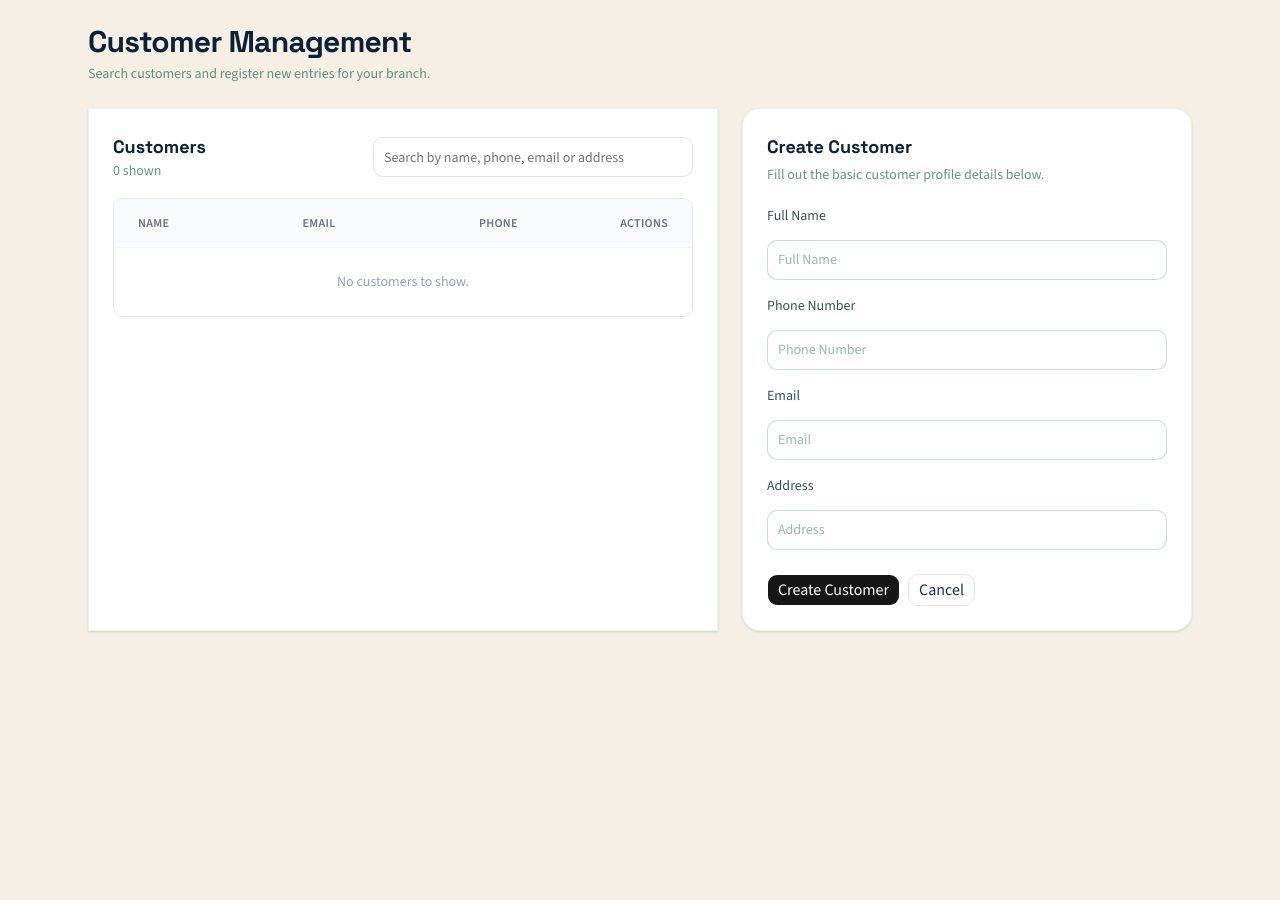
Test: CreateCustomerForm › maps backend field validation errors to form fields
Type "John Doe" into the field labelled "Full Name".
click(967, 260); type("John Doe")  # box [767, 240, 1167, 280]
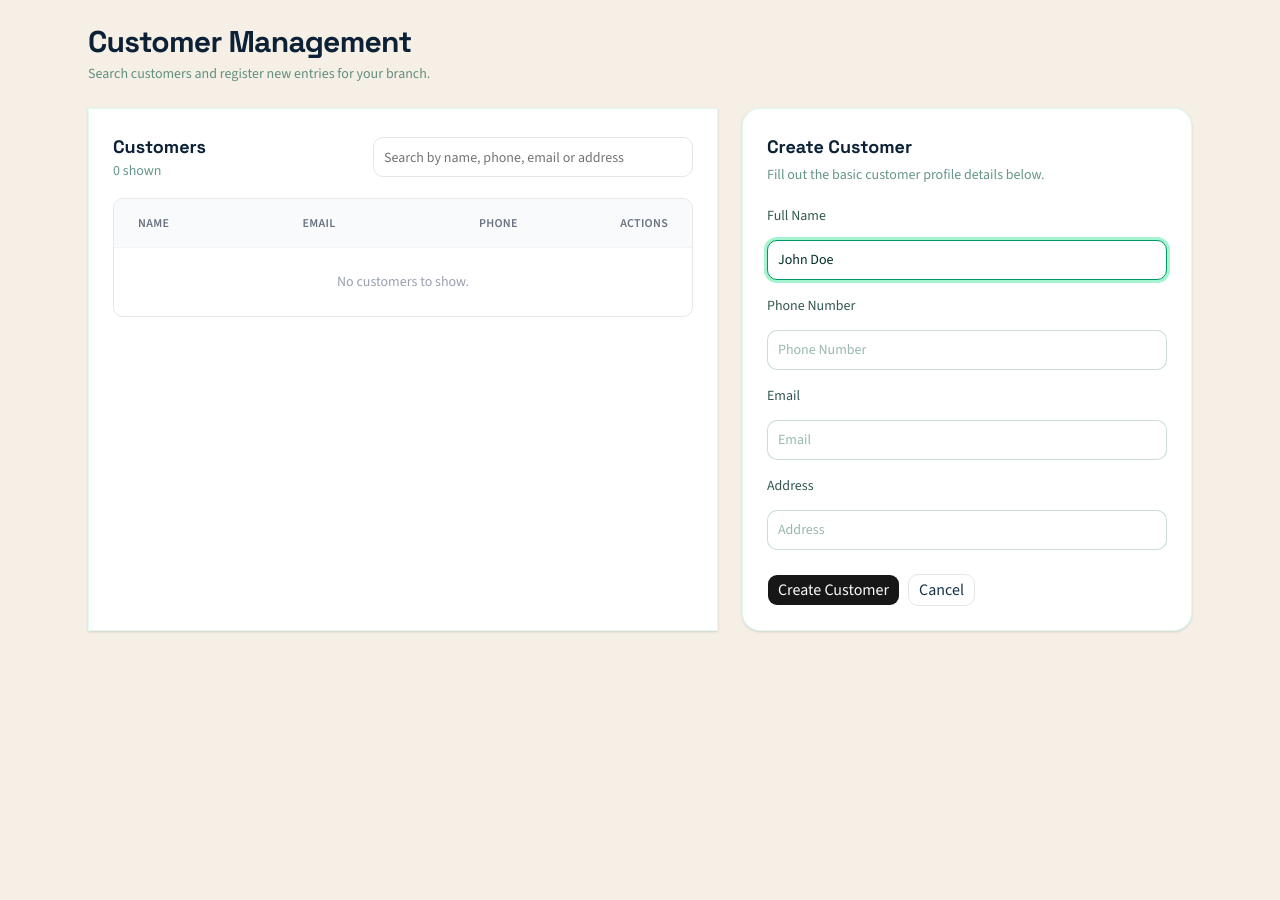
Type "1234567890" into the field labelled "Phone Number".
click(967, 350); type("1234567890")  # box [767, 330, 1167, 370]
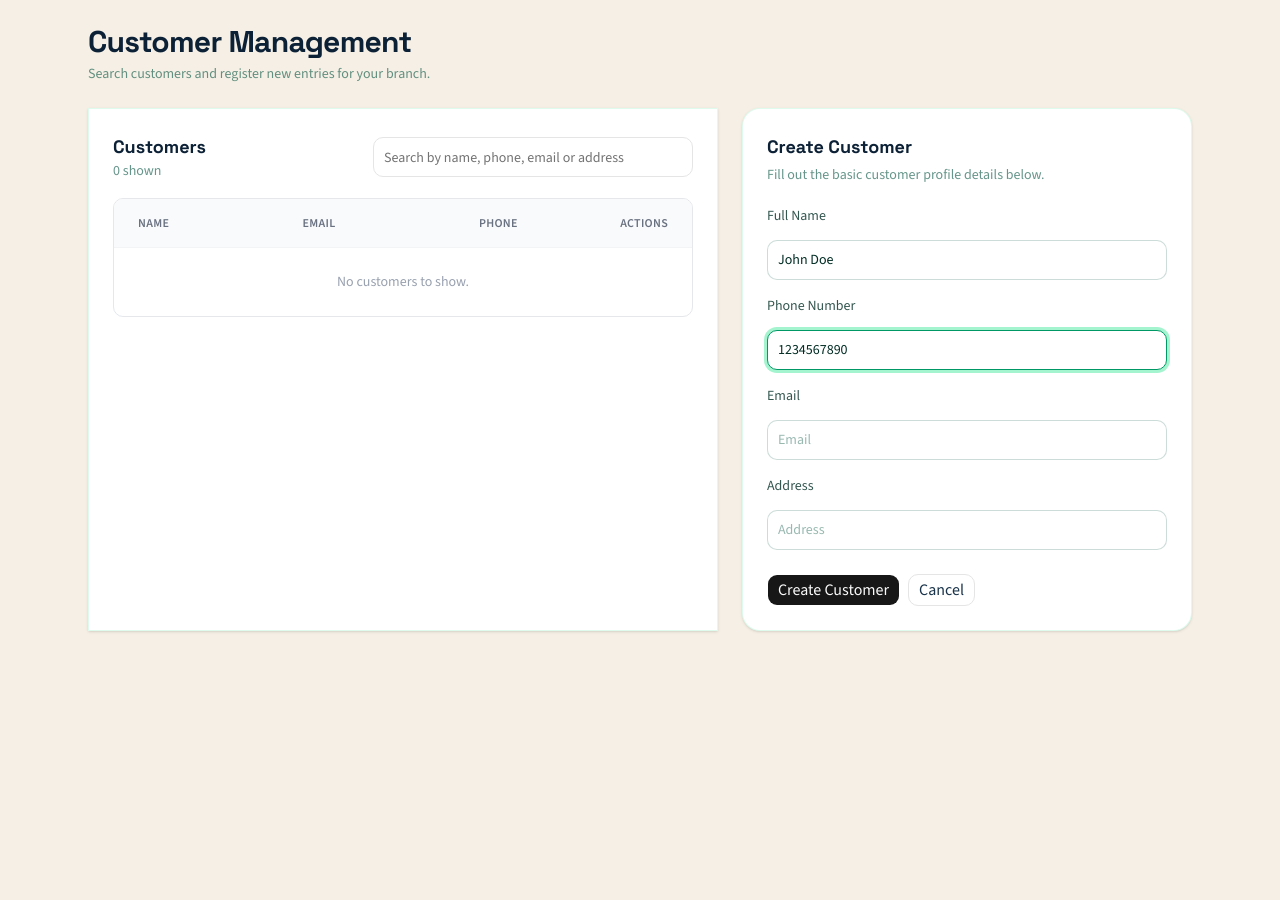
Type "john.doe@test.local" into the field labelled "Email".
click(967, 440); type("john.doe@test.local")  # box [767, 420, 1167, 460]
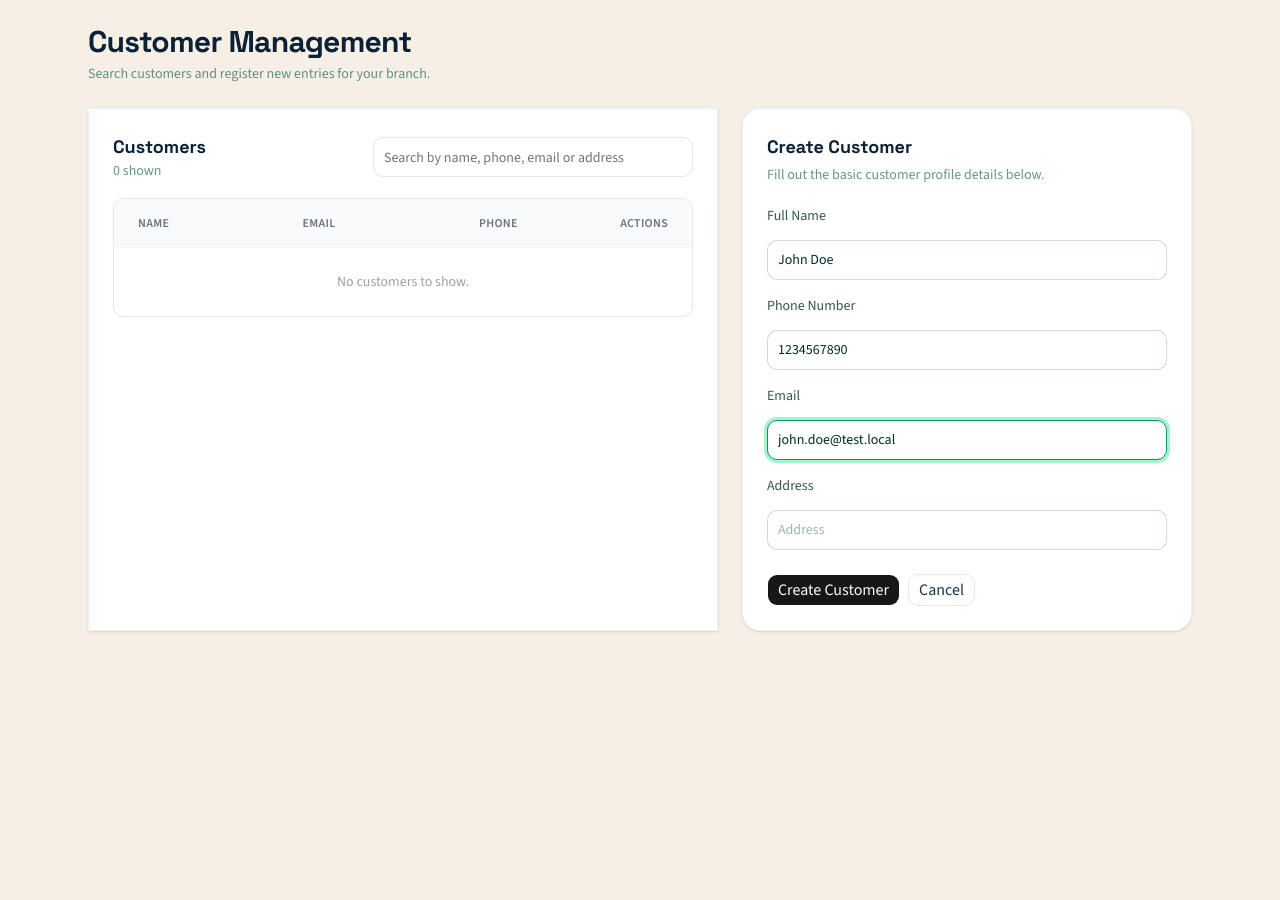
Type "123 Main St" into the field labelled "Address".
click(967, 530); type("123 Main St")  # box [767, 510, 1167, 550]
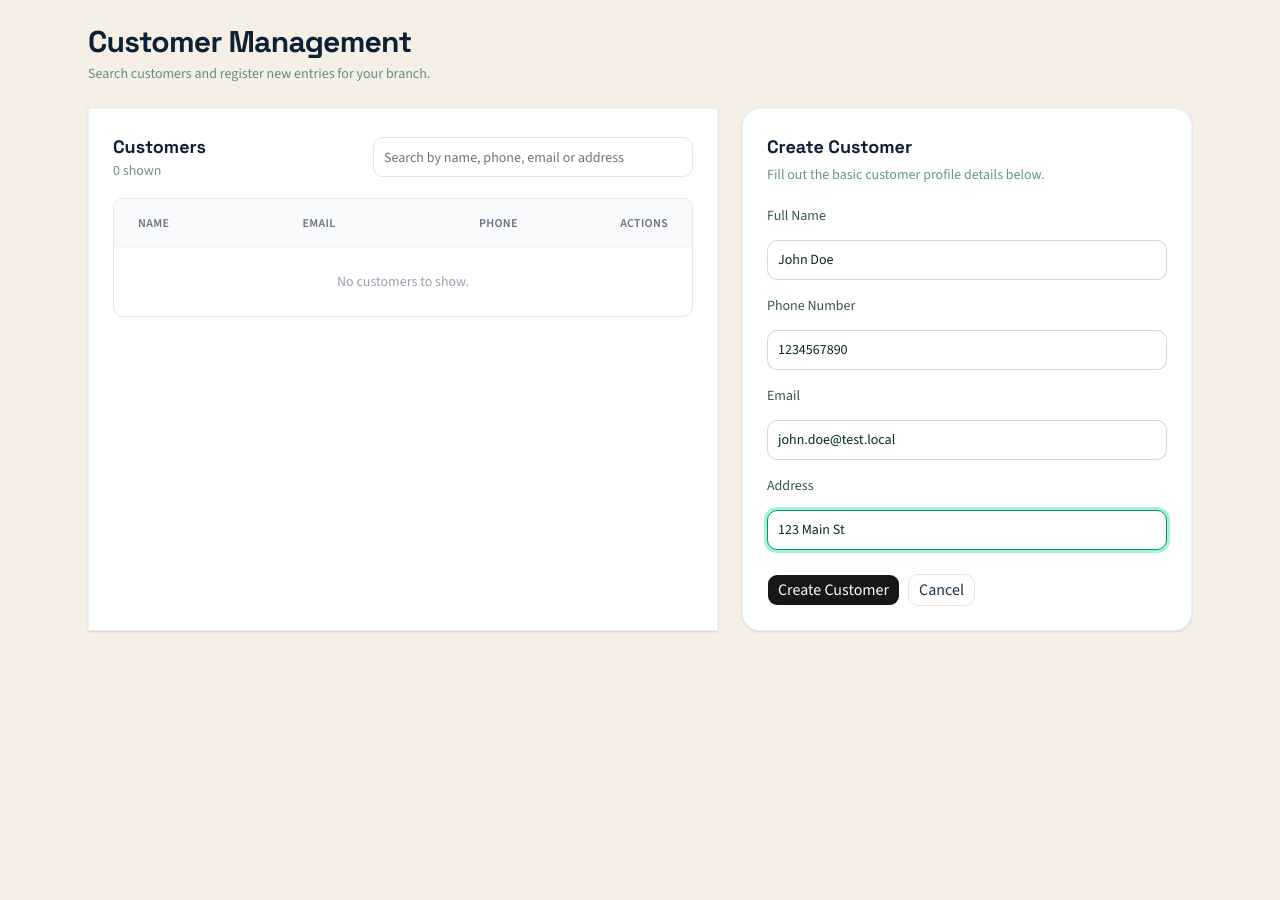
Click the button "Create Customer".
click(834, 590)  # box [767, 574, 900, 606]
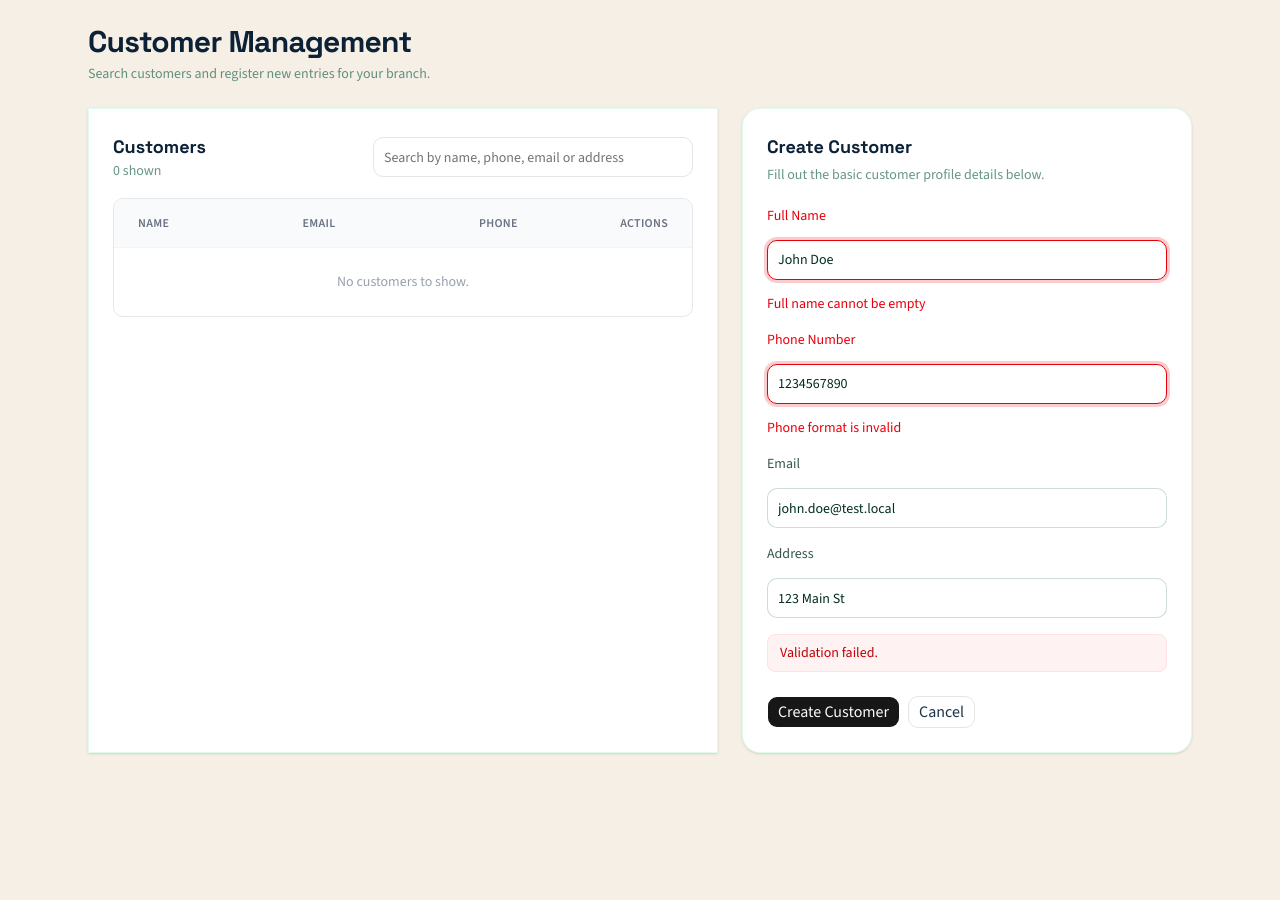
Check: the text "Full name cannot be empty" is shown, box [767, 294, 926, 313]
Check: the text "Phone format is invalid" is shown, box [767, 418, 901, 437]
